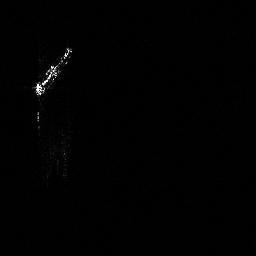ship: (33, 45, 74, 98)
